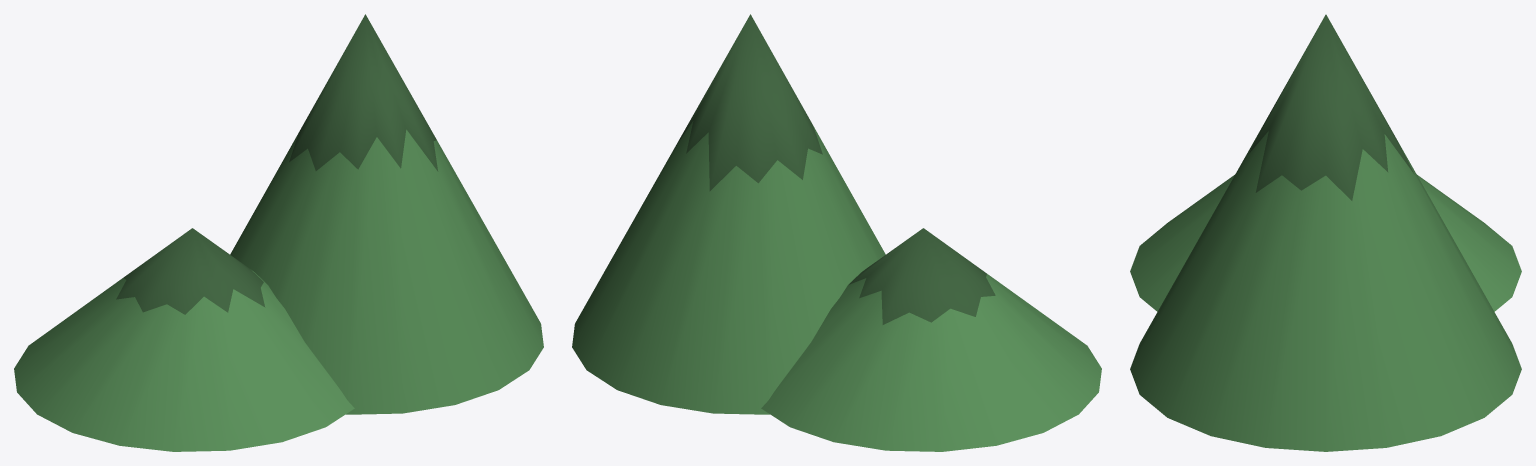
Rendered from Mountain3D.fbx.
3 views of the same model, side by side, from view 1: azimuth 30°, elevation 25°; view 2: azimuth 150°, elevation 25°; view 3: azimuth 270°, elevation 25° (orthographic). The views are drawn at different scales.
Parts seen in each view (by area): view 1: Mountain1, Mountain2; view 2: Mountain1, Mountain2; view 3: Mountain1, Mountain2.
Part boxes in pixels (x1=…): Mountain1: x1=230, y1=14, x2=543, y2=414; Mountain2: x1=14, y1=228, x2=354, y2=451; Mountain1: x1=572, y1=14, x2=885, y2=414; Mountain2: x1=761, y1=228, x2=1101, y2=451; Mountain1: x1=1130, y1=14, x2=1521, y2=451; Mountain2: x1=1130, y1=175, x2=1521, y2=311.
Size of the model in its own units: 11.31 by 7.27 by 7.27.
